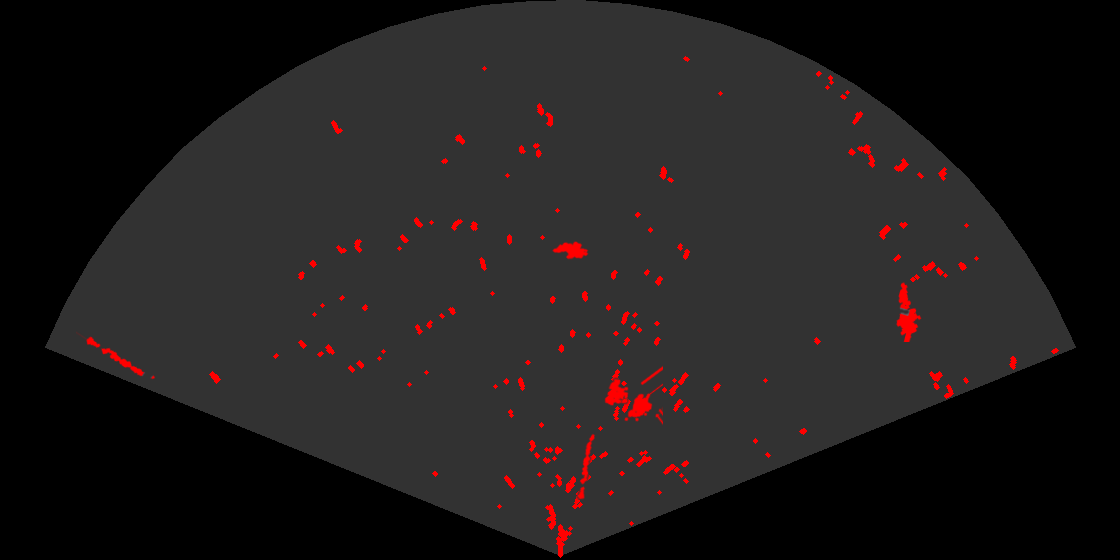AUV: (551, 240, 590, 261)
cage: (603, 364, 663, 427)
chain: (76, 330, 157, 381), (575, 432, 597, 500)
frogman: (895, 280, 923, 342)
